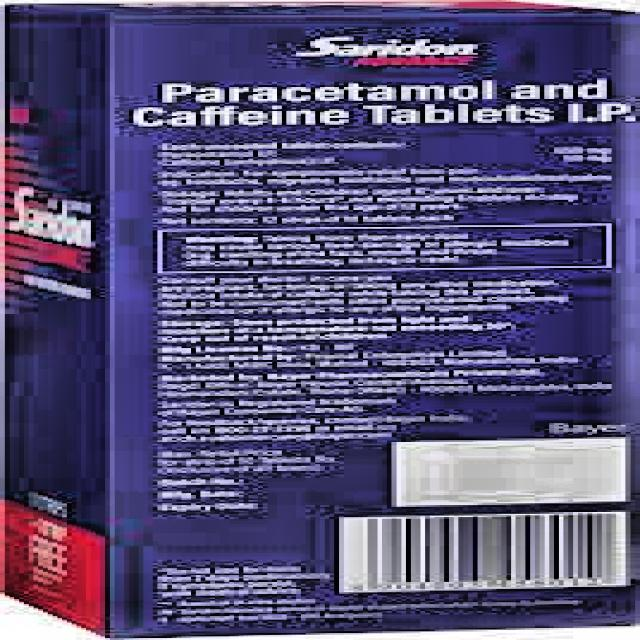Saridon: (21, 8, 629, 629)
